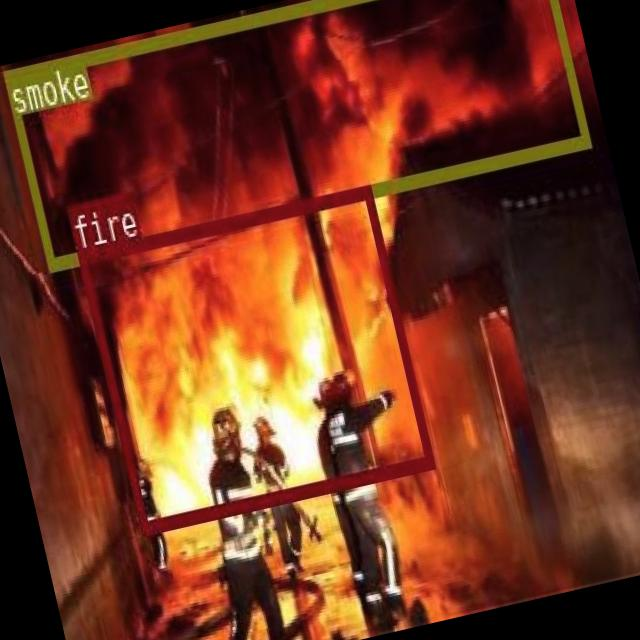fire: (75, 182, 432, 532)
smoke: (1, 0, 588, 268)
